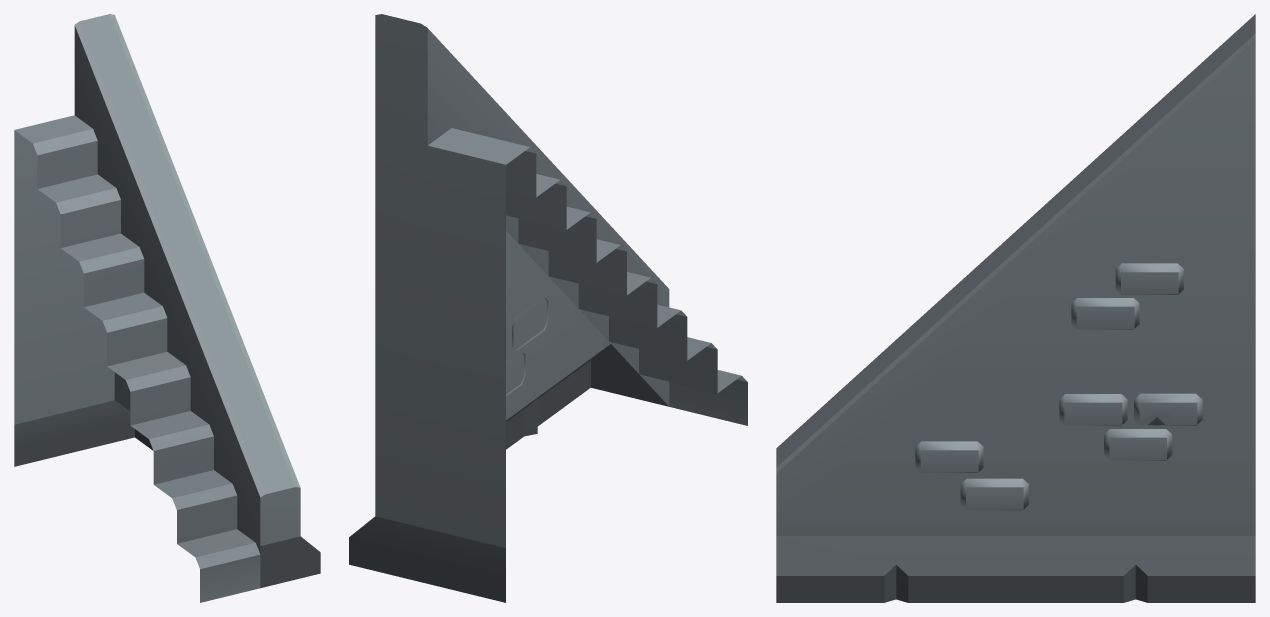
File: stairs_modular_right.obj
The picture shows the model from 3 angles, left to right: view 1: azimuth 30°, elevation 25°; view 2: azimuth 150°, elevation 25°; view 3: azimuth 270°, elevation 25°; orthographic projection. The views are drawn at different scales.
Visible parts, largest first — view 1: stairs_modular_right; view 2: stairs_modular_right; view 3: stairs_modular_right.
Part boxes in pixels (x1,y1,x2,y2): stairs_modular_right: [14, 14, 320, 602]; stairs_modular_right: [349, 14, 747, 602]; stairs_modular_right: [776, 14, 1255, 602].
Size of the model in its own units: 1.5 by 5.1 by 4.
Materials: 1 (1 with a texture image).
